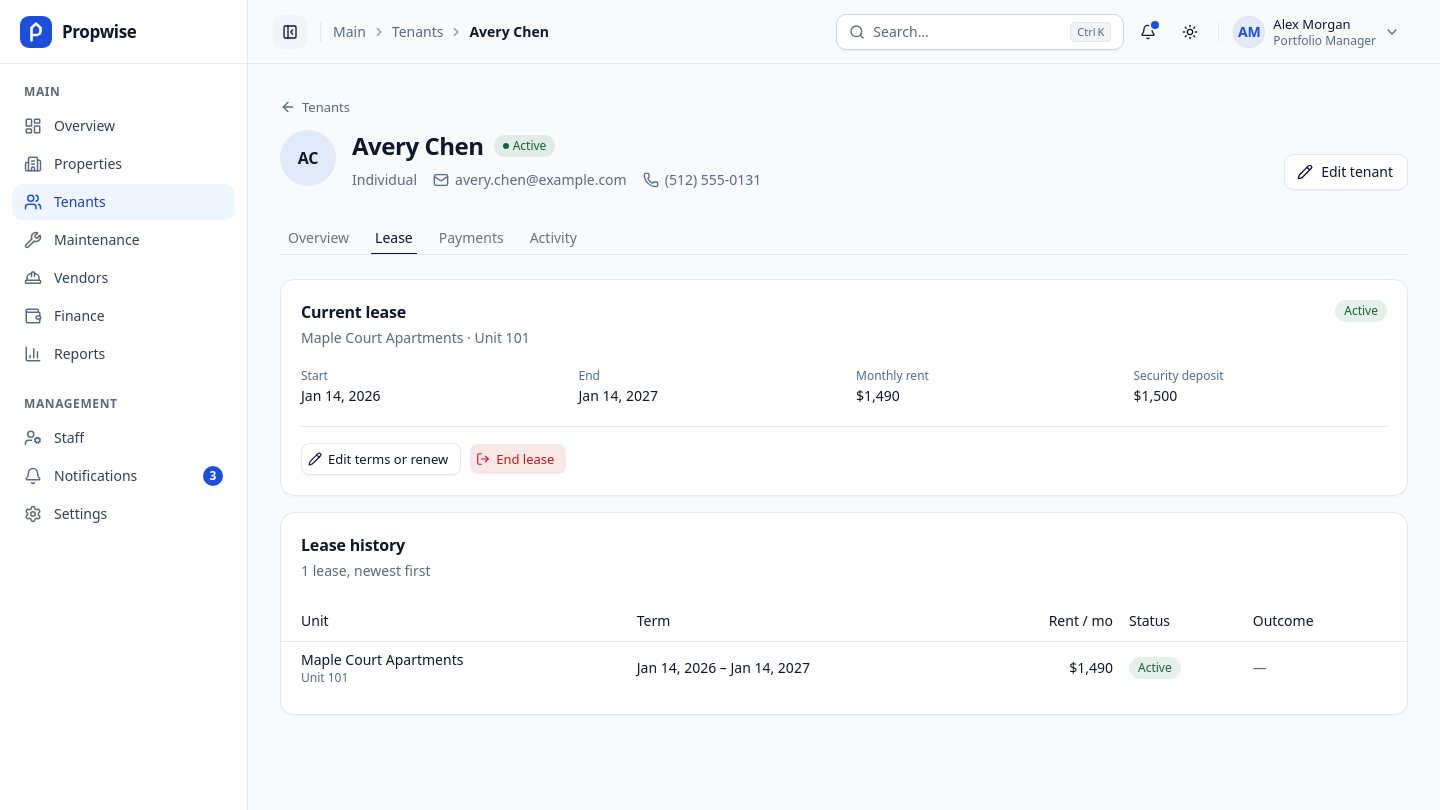
Test: Tenant details and lease management › ends an active lease and releases the unit
Expected: the heading "Avery Chen" is shown, [352,130,484,162]
Click the button "End lease" at (518, 459), box [469,443,567,475]
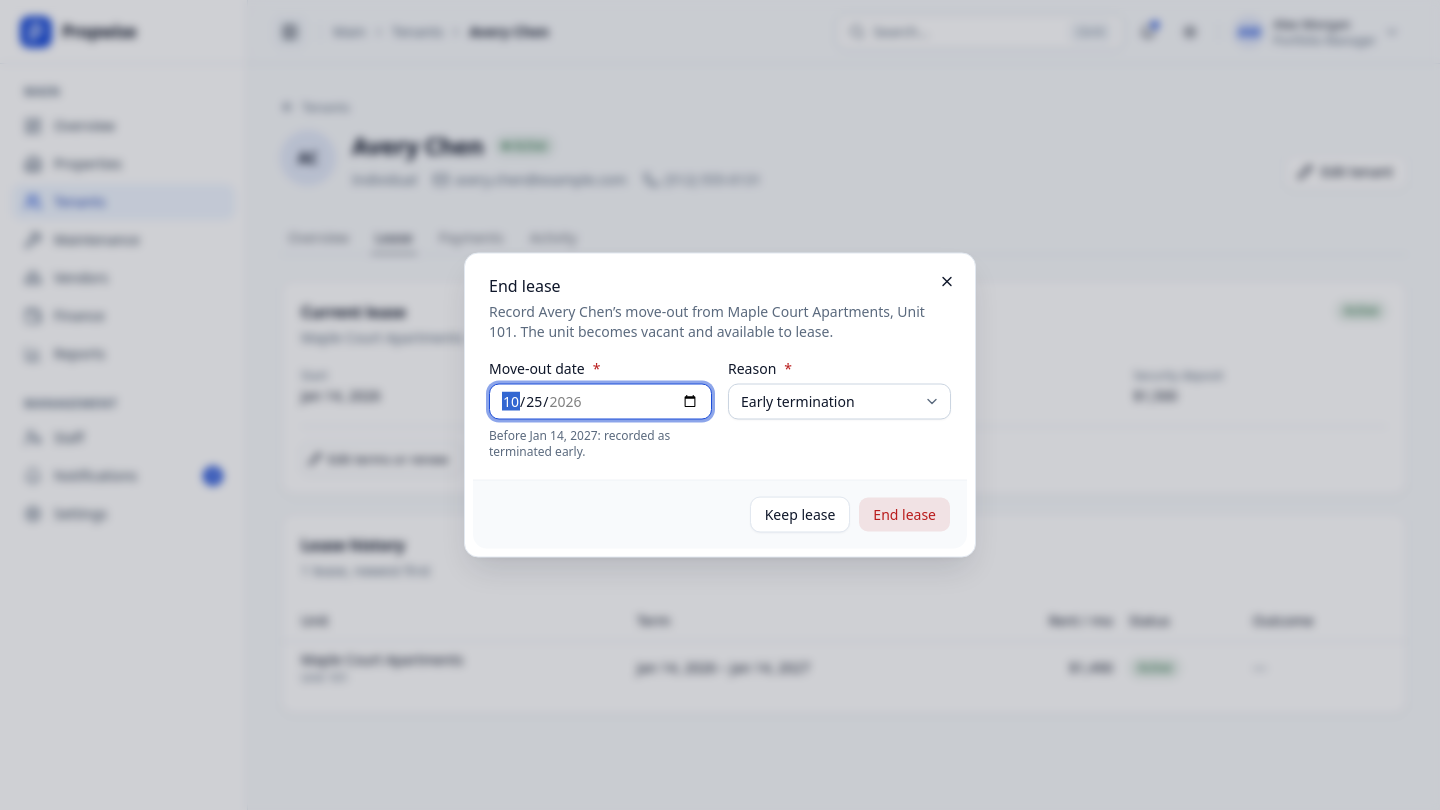
Expected: the text "Before Jan 14, 2027: recorded as terminated early." is shown, [489,426,670,460]
Click the button "End lease" at (905, 514), box [858,496,951,532]
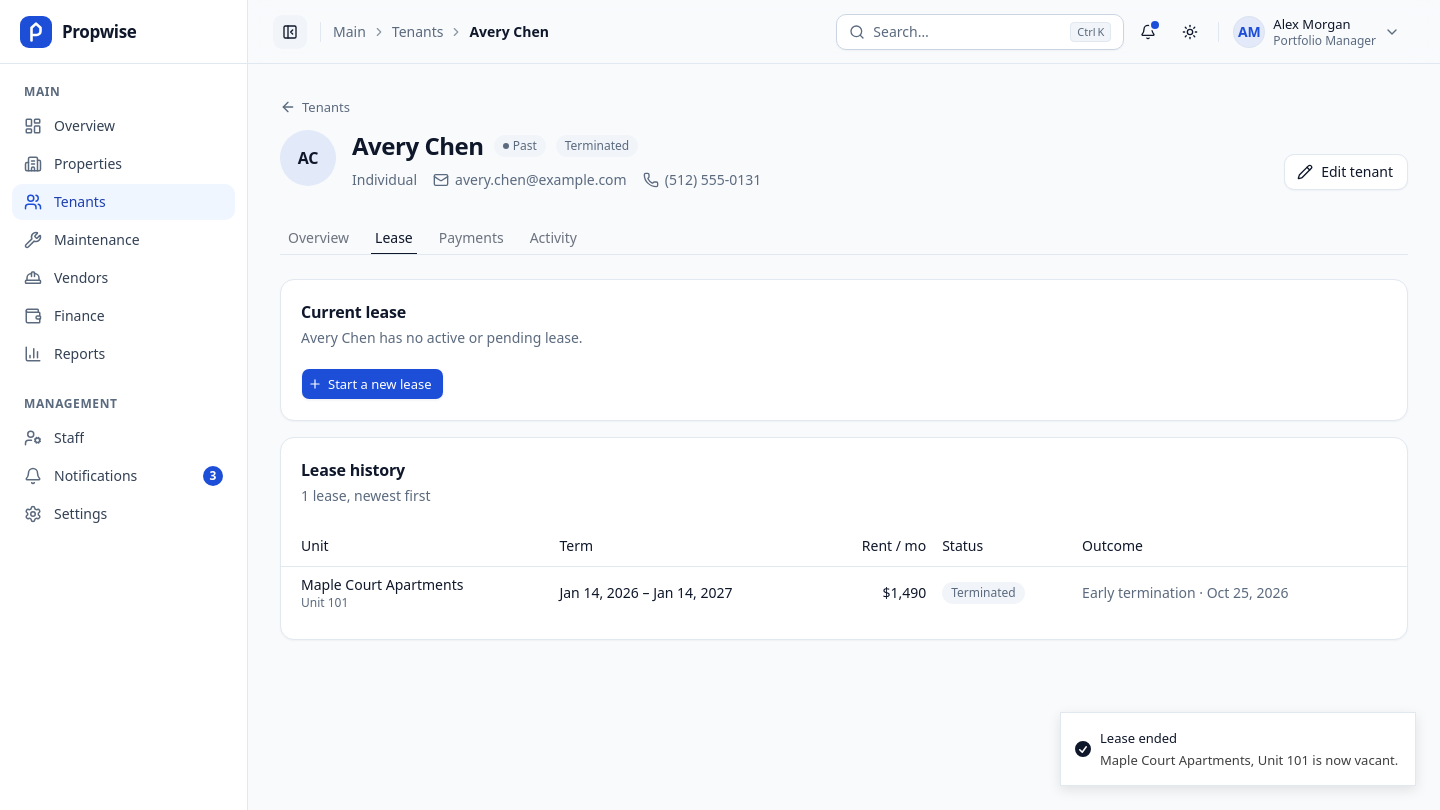
Expected: the dialog is gone
